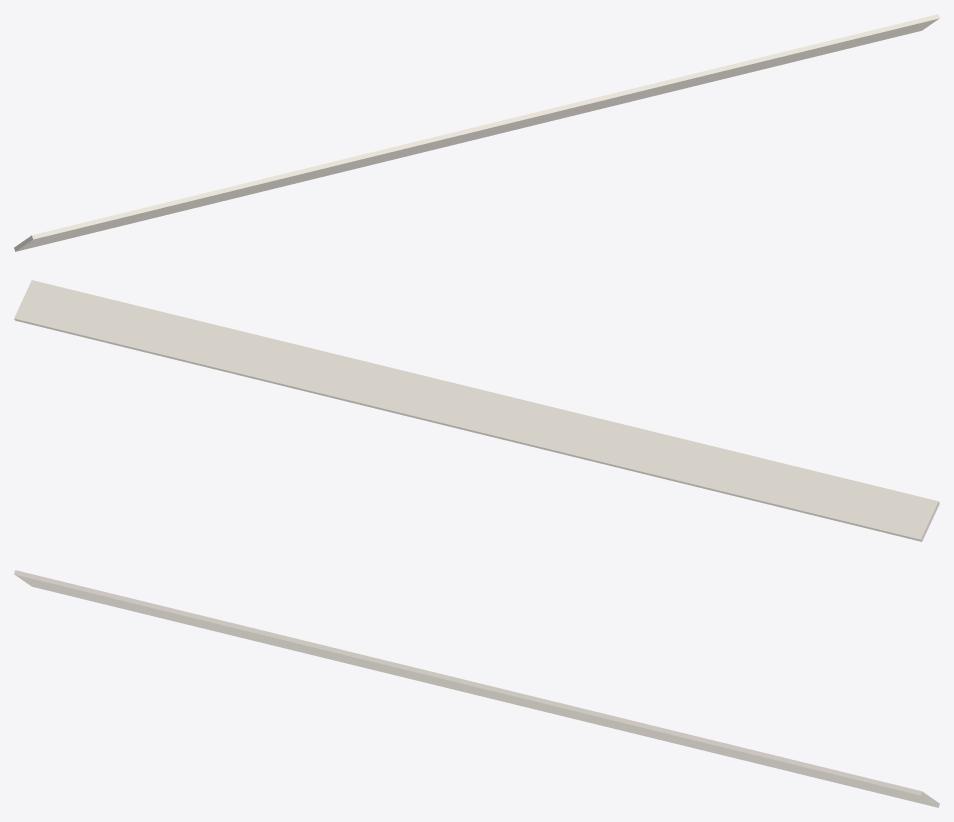
3 renders of one model, top to bottom at view 1: azimuth 30°, elevation 25°; view 2: azimuth 150°, elevation 25°; view 3: azimuth 330°, elevation 25°, orthographic.
Visible parts, largest first — view 1: Casing Stones (north face, lower courses); view 2: Casing Stones (north face, lower courses); view 3: Casing Stones (north face, lower courses).
Part boxes in pixels (x1,y1,x2,y2): Casing Stones (north face, lower courses): (14,14,939,251); Casing Stones (north face, lower courses): (14,280,939,541); Casing Stones (north face, lower courses): (14,570,939,807).
Size of what is drawn, in the model's own units: 230 by 6.96 by 8.48.
